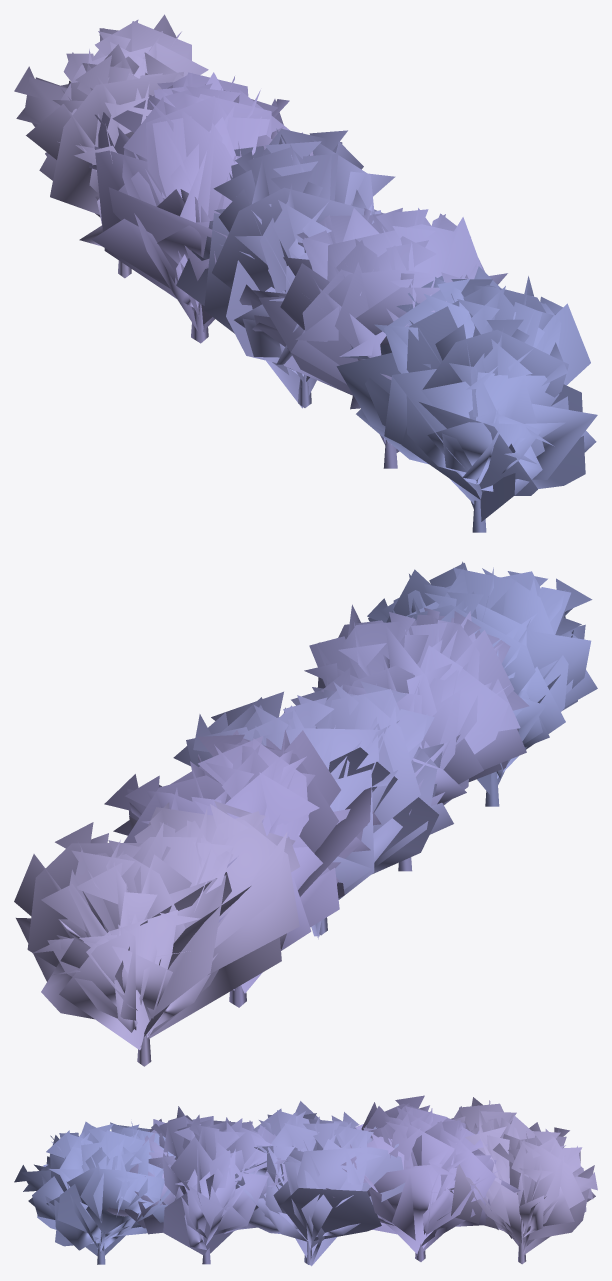
3 renders of one model, top to bottom at view 1: azimuth 30°, elevation 25°; view 2: azimuth 150°, elevation 25°; view 3: azimuth 270°, elevation 25°, orthographic. The views are drawn at different scales.
Parts seen in each view (by area): view 1: SM_BS_Buxus_500cm_HD; view 2: SM_BS_Buxus_500cm_HD; view 3: SM_BS_Buxus_500cm_HD.
Part boxes in pixels (bbox=[...]): SM_BS_Buxus_500cm_HD: bbox=[14, 14, 597, 532]; SM_BS_Buxus_500cm_HD: bbox=[14, 561, 597, 1066]; SM_BS_Buxus_500cm_HD: bbox=[14, 1095, 597, 1266].
Size of the model in its own units: 187 by 51.83 by 55.04.
